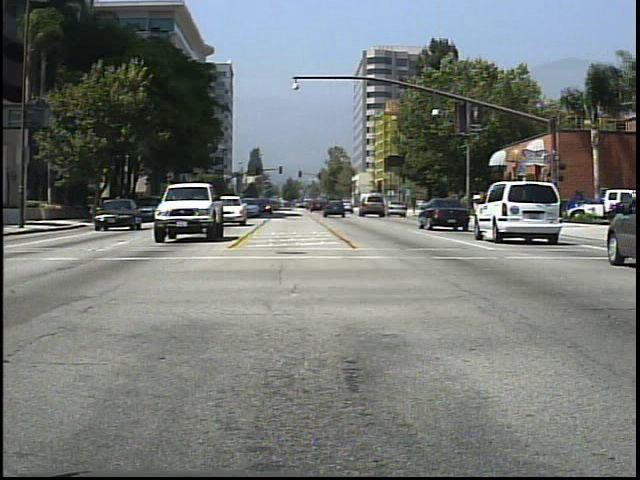person: (503, 191, 522, 230), (460, 191, 478, 226)
